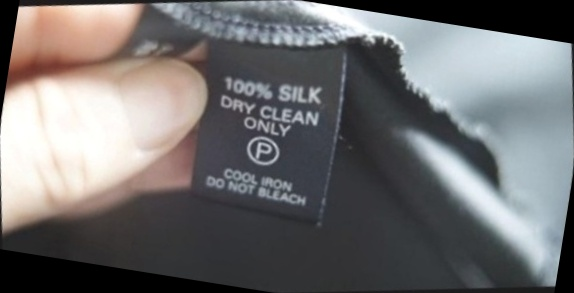dry_clean_any_solvent_except_trichloroethylene: (239, 126, 290, 174)
